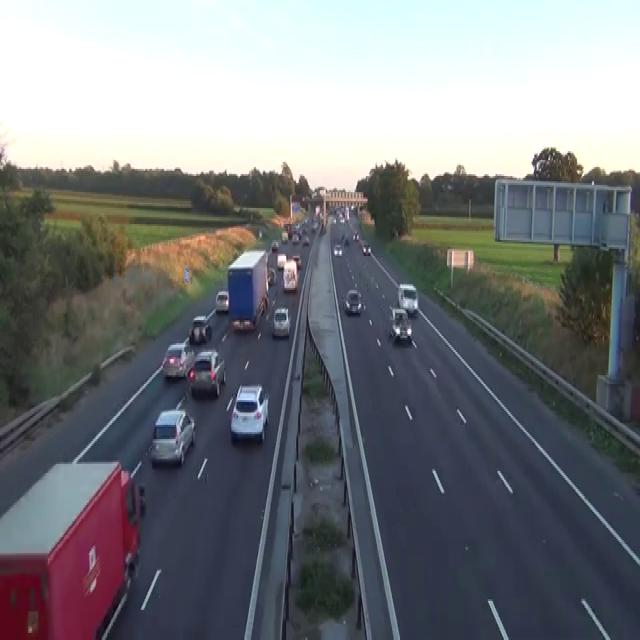Car: (149, 409, 195, 466), (230, 384, 269, 443), (187, 348, 226, 396), (161, 339, 194, 378), (388, 306, 412, 343), (188, 315, 212, 343), (272, 306, 291, 338), (343, 288, 361, 315), (231, 316, 255, 331), (215, 290, 229, 313), (138, 484, 146, 516), (267, 266, 277, 284), (277, 252, 286, 268), (291, 254, 301, 268), (333, 244, 342, 256), (362, 242, 371, 254), (318, 222, 325, 235), (271, 240, 278, 252), (291, 233, 299, 243), (281, 231, 288, 242), (302, 235, 309, 245), (310, 222, 316, 233), (352, 231, 359, 240), (350, 202, 356, 212), (340, 233, 345, 243), (344, 237, 349, 246), (339, 215, 344, 224), (258, 228, 262, 238), (333, 217, 336, 224)
Truck: (0, 459, 143, 638), (227, 249, 269, 331), (397, 282, 418, 314), (282, 260, 298, 292)
